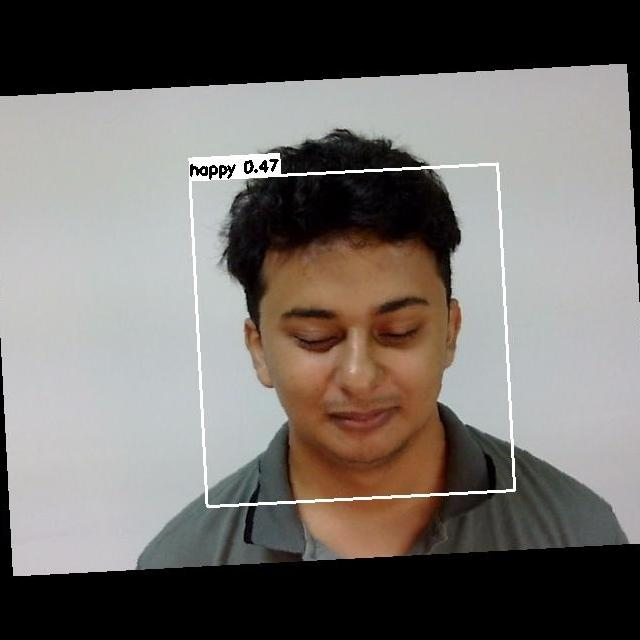Sad: (244, 279, 451, 455)
